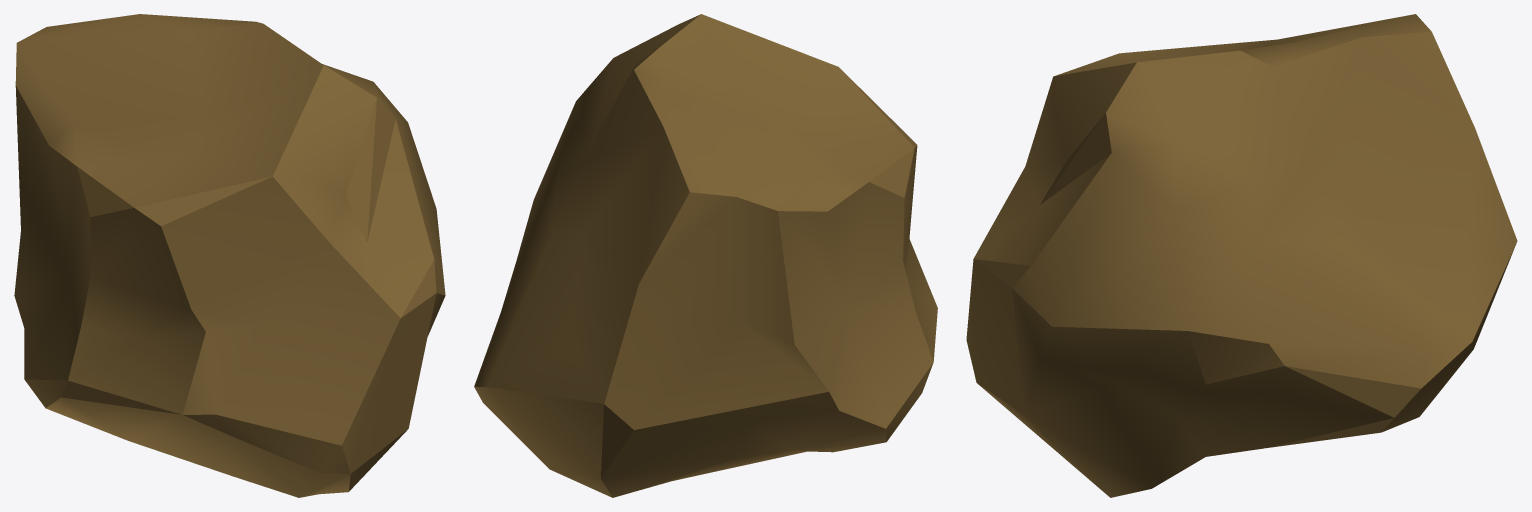
Rendered from RockS2.FBX.
The picture shows the model from 3 angles, left to right: view 1: azimuth 30°, elevation 25°; view 2: azimuth 150°, elevation 25°; view 3: azimuth 270°, elevation 25°; orthographic projection. The views are drawn at different scales.
Visible parts, largest first — view 1: GeoSphere011; view 2: GeoSphere011; view 3: GeoSphere011.
Part boxes in pixels (x1,y1,x2,y2): GeoSphere011: (14, 14, 445, 497); GeoSphere011: (474, 14, 937, 497); GeoSphere011: (966, 14, 1517, 497).
Bounding box in the file's own units: 88.8 × 95.86 × 110.
